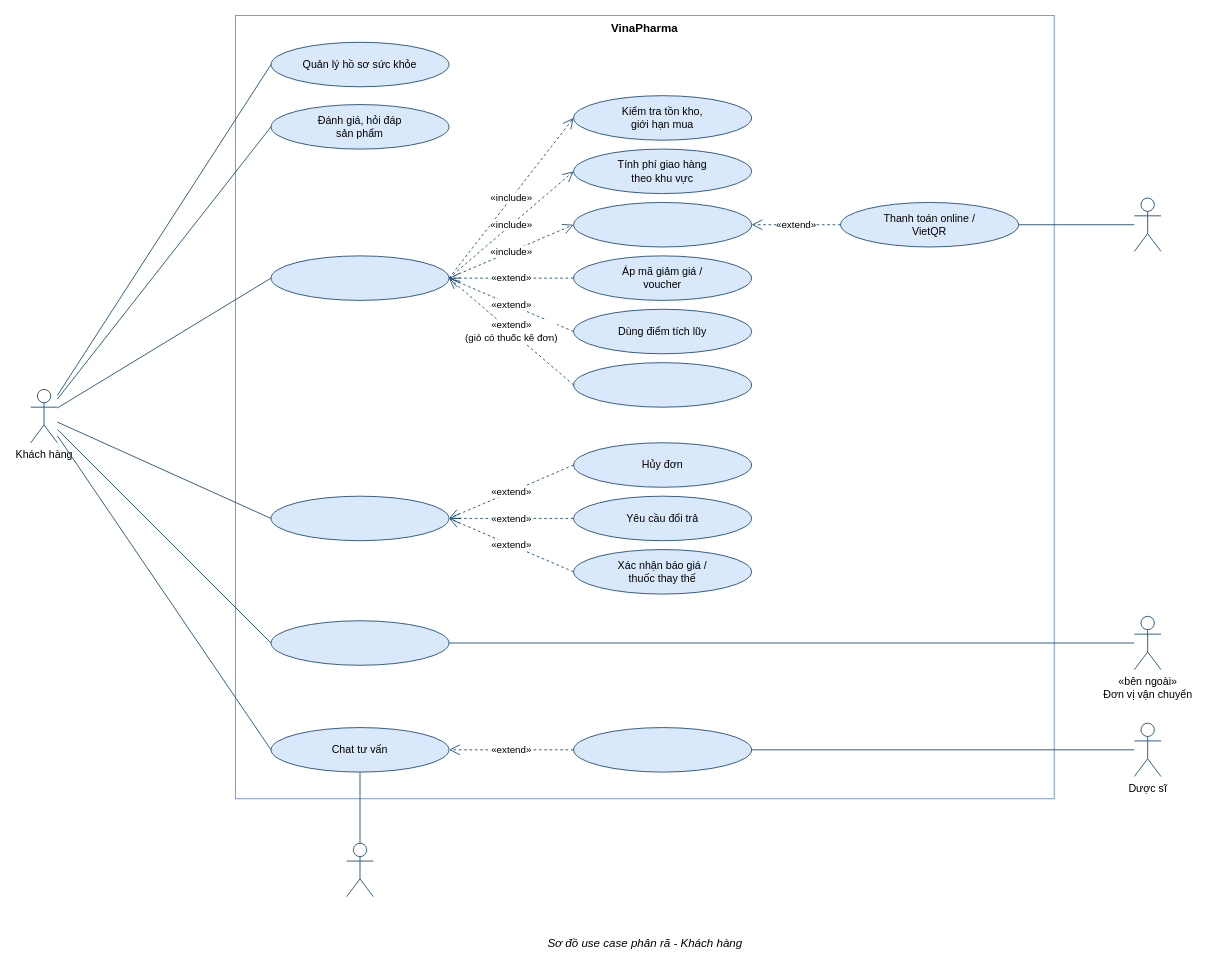
Some shapes in this 1207 by 969 pixel diagram are drawn without their labels. Here are the shapes that lost their labels. From the top down, the centre of each, then its label:
At (662,224): "Thanh toán".
At (1147,224): "«hệ thống ngoài» Cổng thanh toán".
At (359,277): "Đặt hàng".
At (662,384): "Tải ảnh đơn thuốc".
At (359,518): "Theo dõi đơn hàng".
At (359,642): "Nhận hàng, trả tiền COD".
At (662,749): "Chuyển dược sĩ".
At (359,869): "«hệ thống» Trợ lý AI".
